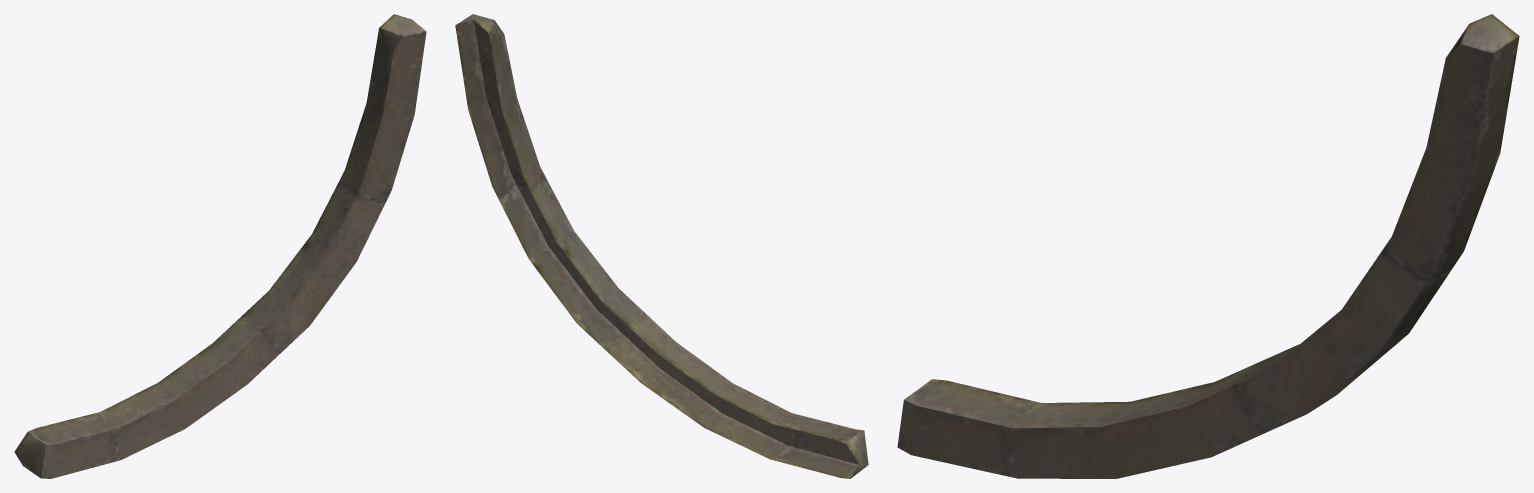
File: border_c_90_long2.glb
The picture shows the model from 3 angles, left to right: view 1: azimuth 30°, elevation 25°; view 2: azimuth 150°, elevation 25°; view 3: azimuth 330°, elevation 25°; orthographic projection. The views are drawn at different scales.
Visible parts, largest first — view 1: set_0_group_0; view 2: set_0_group_0; view 3: set_0_group_0.
Part boxes in pixels (bbox=[...]): set_0_group_0: bbox=[14, 14, 426, 478]; set_0_group_0: bbox=[455, 14, 868, 478]; set_0_group_0: bbox=[897, 14, 1519, 478].
Bounding box in the file's own units: 3.86 × 3.37 × 0.3164.
1 material, 1 textured.
